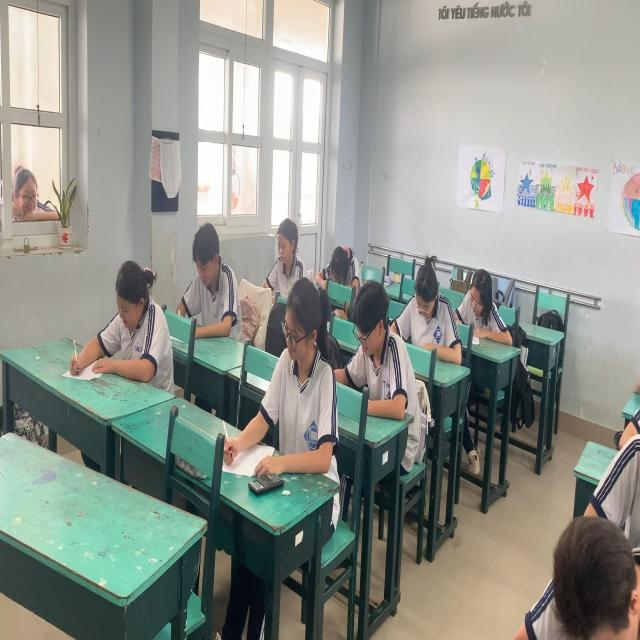not_cheating: (279, 264, 350, 496), (342, 258, 407, 427), (106, 258, 166, 385), (179, 227, 238, 344), (396, 248, 456, 351), (460, 268, 502, 348), (265, 213, 304, 286), (326, 248, 356, 281)
